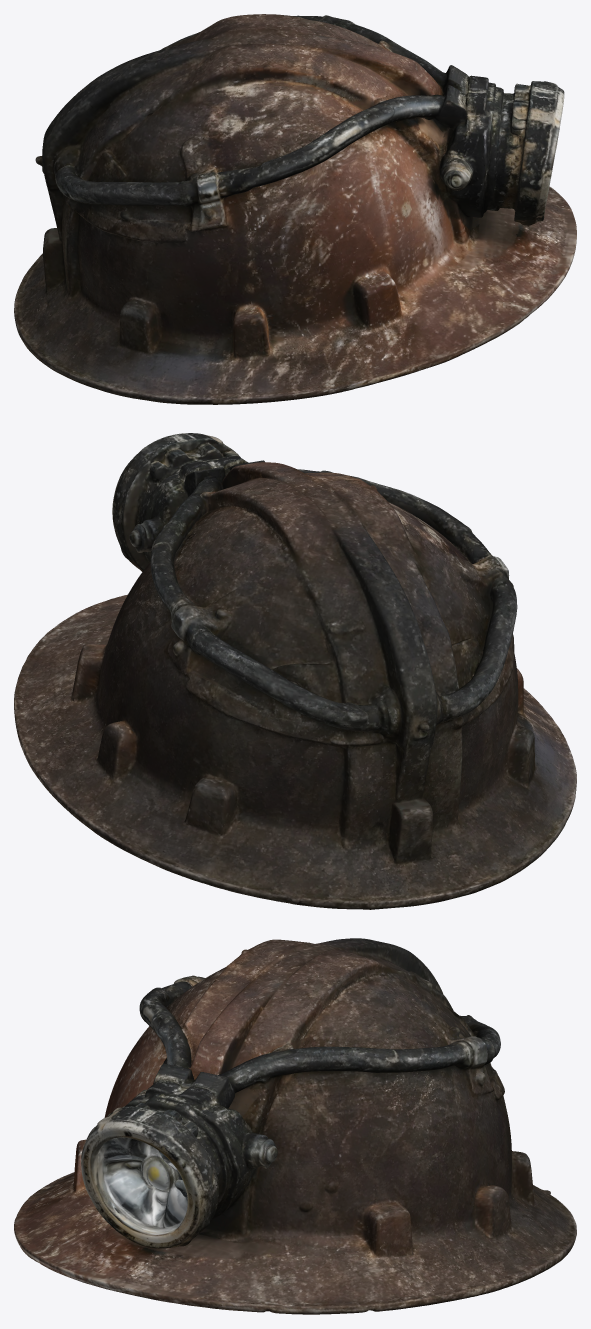
Rendered from casco.glb.
The picture shows the model from 3 angles, top to bottom: view 1: azimuth 30°, elevation 25°; view 2: azimuth 150°, elevation 25°; view 3: azimuth 270°, elevation 25°; orthographic projection. The views are drawn at different scales.
Visible parts, largest first — view 1: tripo_node_db3f4905-d45c-4a10-978b-589ace9f30c4; view 2: tripo_node_db3f4905-d45c-4a10-978b-589ace9f30c4; view 3: tripo_node_db3f4905-d45c-4a10-978b-589ace9f30c4.
Part boxes in pixels (x1,y1,x2,y2): tripo_node_db3f4905-d45c-4a10-978b-589ace9f30c4: [14, 14, 576, 404]; tripo_node_db3f4905-d45c-4a10-978b-589ace9f30c4: [14, 433, 576, 909]; tripo_node_db3f4905-d45c-4a10-978b-589ace9f30c4: [14, 938, 576, 1314].
Size of the model in its own units: 0.967 by 0.5628 by 0.9397.
Materials: 1 (1 with a texture image).
